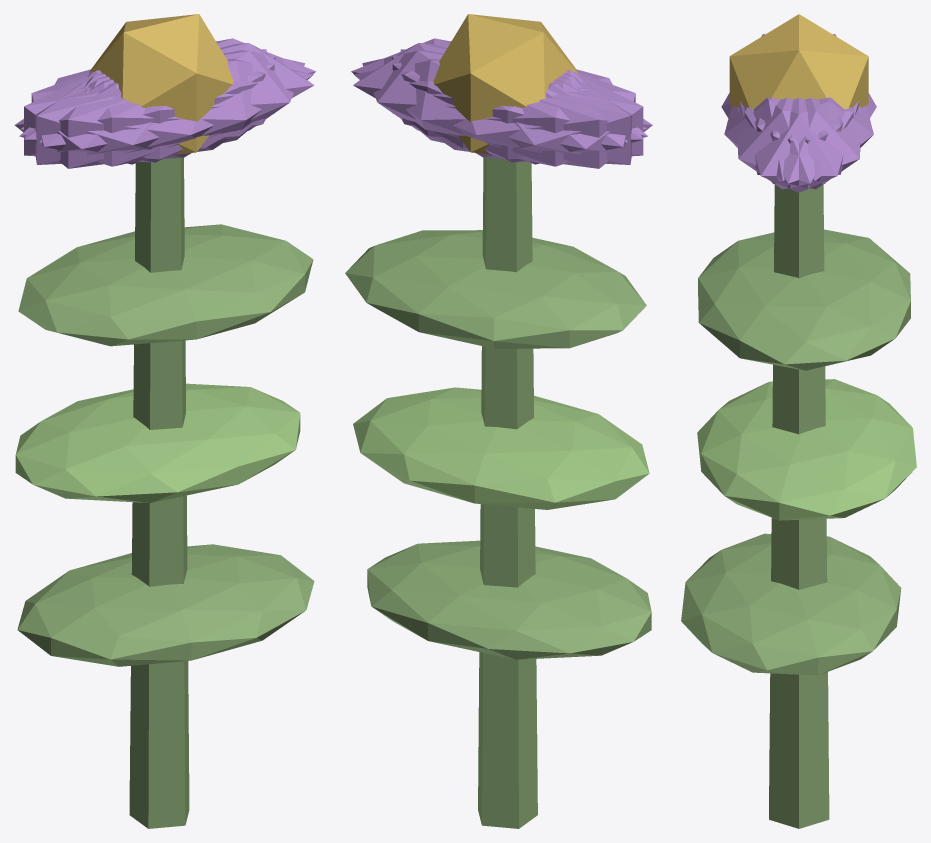
The model's file is handroanthus-chrysanthus.glb.
3 views of the same model, side by side, from view 1: azimuth 30°, elevation 25°; view 2: azimuth 150°, elevation 25°; view 3: azimuth 270°, elevation 25° (orthographic).
Visible parts, largest first — view 1: leaf0, leaf2, stem, leaf1, center, petal1, petal6, petal2, petal5, petal7, petal0, petal4 (+2 smaller); view 2: leaf1, leaf2, leaf0, stem, center, petal8, petal3, petal7, petal4, petal2, petal0, petal5 (+2 smaller); view 3: leaf2, leaf1, leaf0, stem, center, petal0, petal4, petal5, petal8, petal1.
Part boxes in pixels (<box>): leaf0: <box>17,544,314,666</box>; leaf2: <box>18,224,313,346</box>; stem: <box>129,157,189,828</box>; leaf1: <box>15,383,300,502</box>; center: <box>89,14,233,154</box>; petal1: <box>19,58,313,166</box>; petal6: <box>14,72,227,168</box>; petal2: <box>35,49,266,164</box>; petal5: <box>39,50,304,159</box>; petal7: <box>24,55,275,162</box>; petal0: <box>88,43,314,148</box>; petal4: <box>21,38,315,139</box>; leaf1: <box>353,387,649,509</box>; leaf2: <box>345,230,646,348</box>; leaf0: <box>367,540,651,659</box>; stem: <box>478,157,537,828</box>; center: <box>433,14,578,154</box>; petal8: <box>354,58,647,166</box>; petal3: <box>439,71,652,168</box>; petal7: <box>400,49,631,164</box>; petal4: <box>362,50,628,159</box>; petal2: <box>392,55,643,162</box>; petal0: <box>353,43,578,148</box>; petal5: <box>351,38,646,139</box>; leaf2: <box>698,229,910,370</box>; leaf1: <box>697,379,916,520</box>; leaf0: <box>681,533,901,675</box>; stem: <box>769,184,829,828</box>; center: <box>729,14,868,109</box>; petal0: <box>739,98,858,192</box>; petal4: <box>744,98,860,189</box>; petal5: <box>737,98,853,189</box>; petal8: <box>755,97,873,181</box>; petal1: <box>724,97,842,180</box>.
Bounding box in the file's own units: 0.1452 × 0.3802 × 0.1037.
